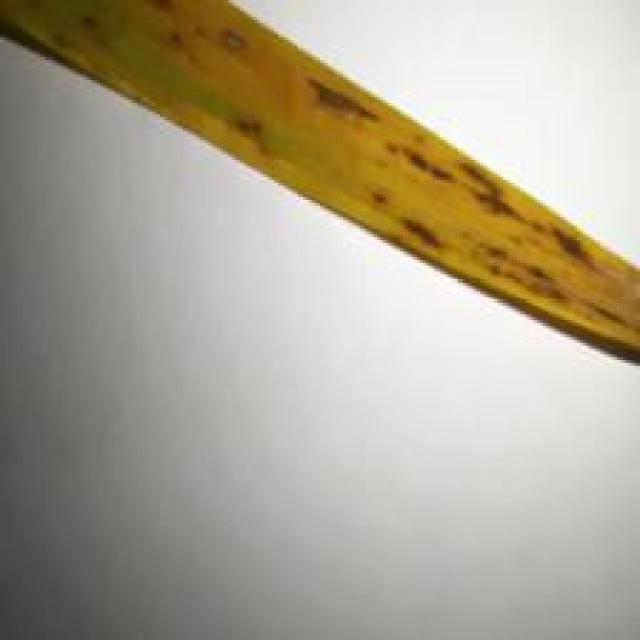Narrow_Brown_Leaf_Spot: (0, 0, 640, 368)
